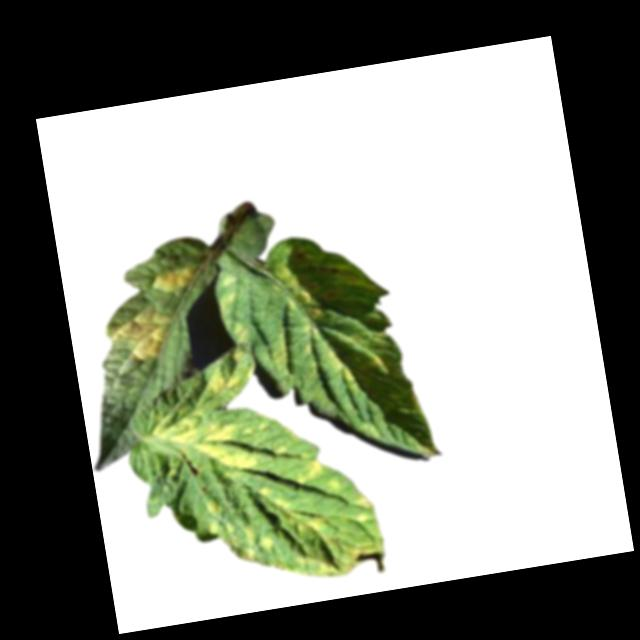Leaf_Mold: (274, 487, 387, 585), (146, 396, 259, 484), (103, 302, 179, 367), (275, 261, 324, 327), (147, 262, 197, 296), (201, 496, 235, 538), (241, 520, 274, 561), (265, 328, 293, 376), (290, 450, 323, 490), (207, 367, 241, 397), (357, 352, 388, 372), (215, 290, 239, 314)
